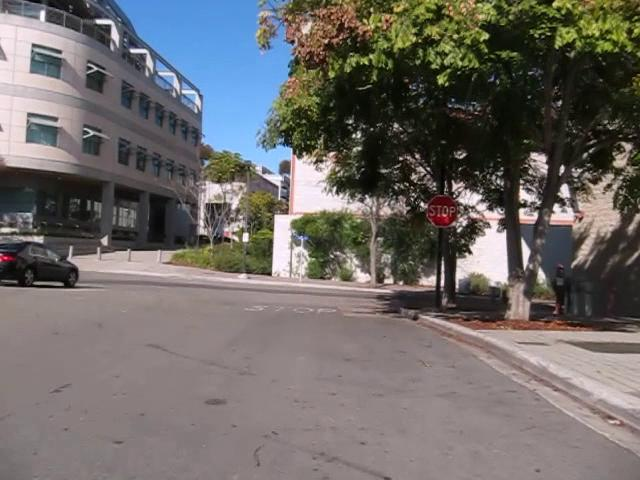stop: (426, 194, 458, 227)
